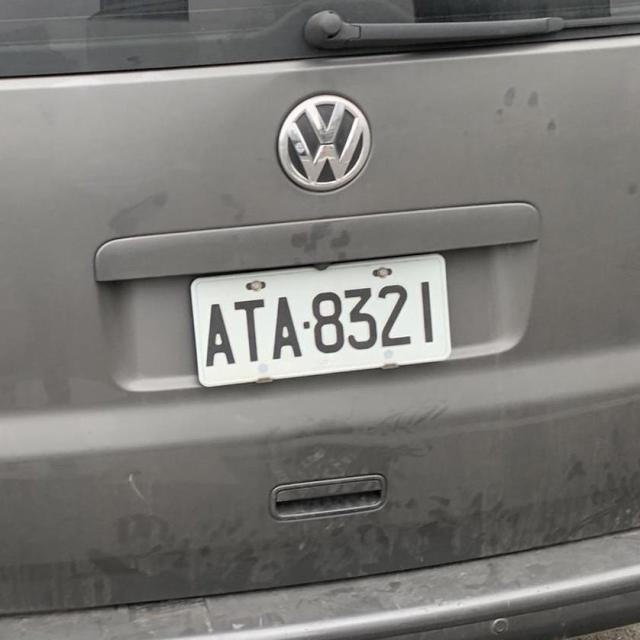W: (188, 253, 453, 392)
